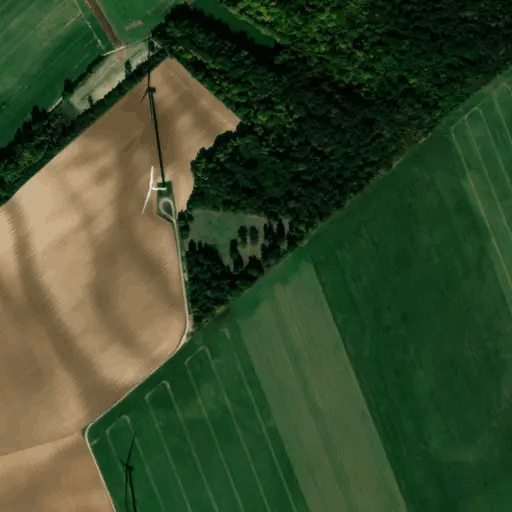wt: (111, 41, 195, 222), (106, 418, 152, 512)
